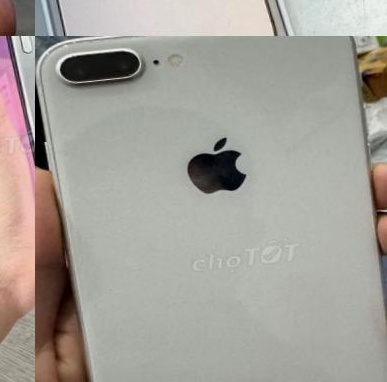scratch: (35, 36, 235, 53), (53, 51, 90, 63)
